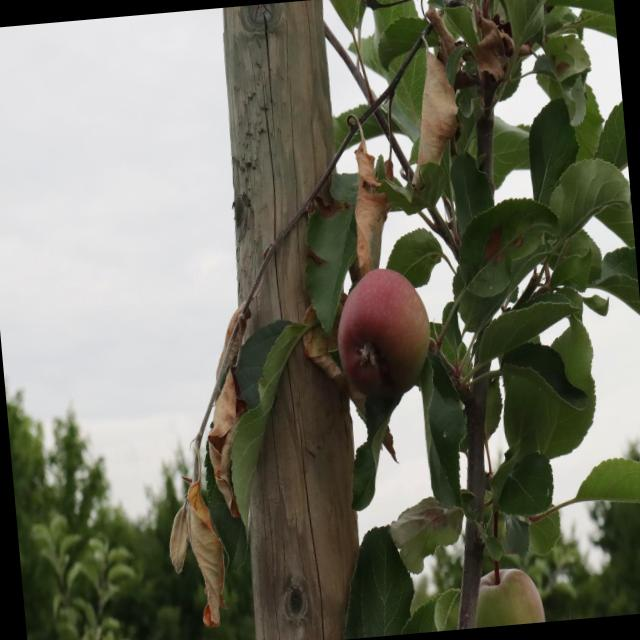-FireBlight-: (155, 364, 247, 620), (404, 0, 514, 170), (336, 116, 392, 278)
